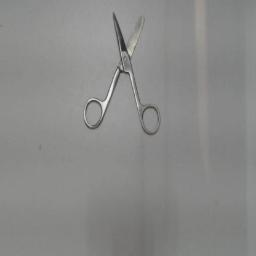Dressing Scissors: (79, 3, 165, 139)
